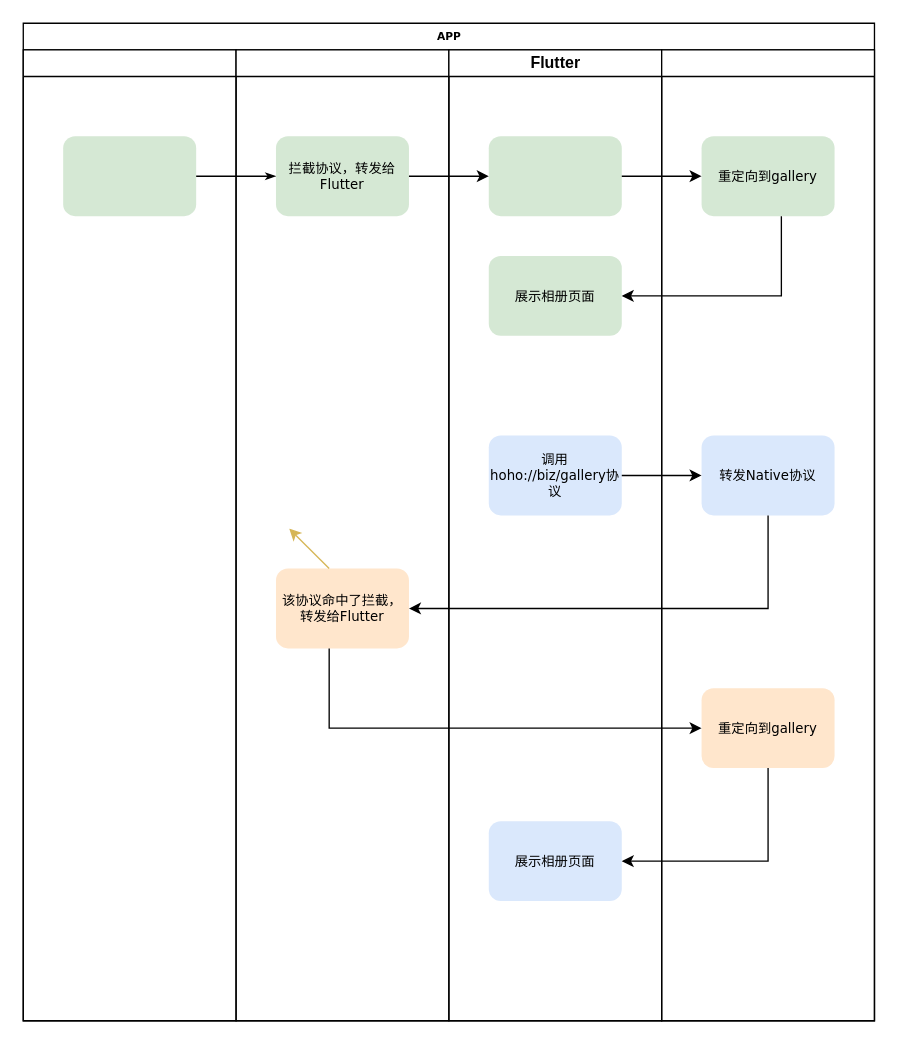
Some shapes in this 898 by 1044 pixel diagram are drawn without their labels. The shapes that lost their labels are listed below. From the top down, each one's box as (x1, y1, x2, y2) in pixels, then its label:
(63, 136, 196, 215): 调用协议hoho://biz/gallery
(488, 136, 621, 215): 交给路由判定页面
(22, 49, 236, 1021): Native
(235, 49, 449, 1021): Native路由控制器
(660, 49, 874, 1021): Flutter路由控制器
